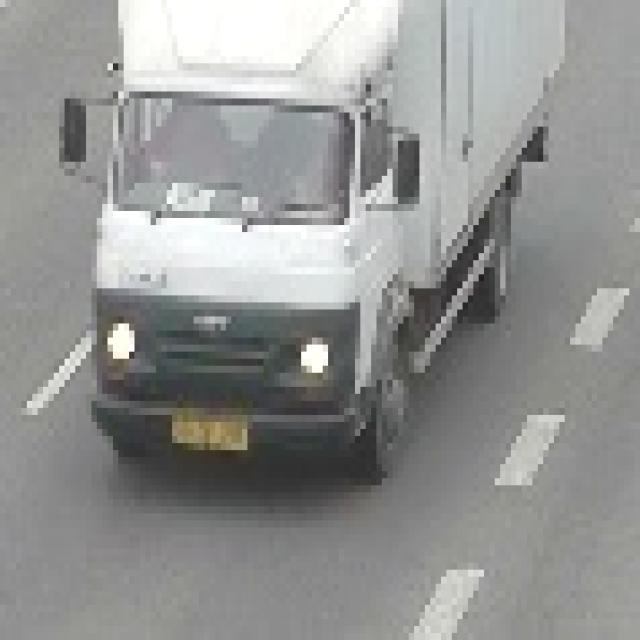truck: (55, 1, 555, 472)
